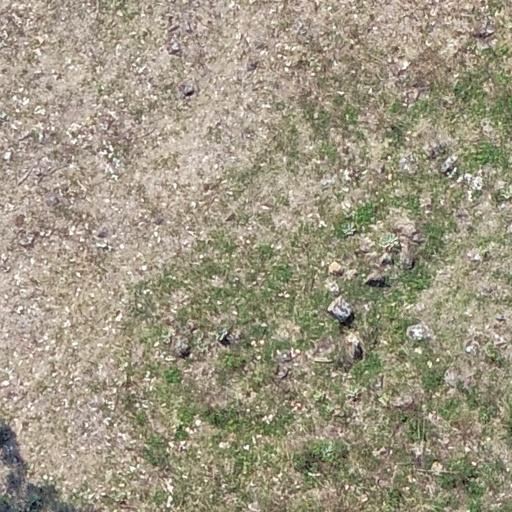stone: (324, 295, 354, 323), (405, 322, 435, 342), (386, 58, 413, 80), (472, 17, 496, 41), (345, 332, 364, 362), (362, 270, 389, 289), (400, 86, 422, 108), (170, 336, 192, 358), (388, 392, 416, 409), (474, 32, 496, 53), (439, 154, 459, 176), (395, 249, 413, 271), (490, 330, 509, 350), (18, 167, 36, 187), (18, 233, 38, 249), (218, 328, 234, 348), (324, 259, 343, 275), (273, 364, 290, 381), (161, 476, 175, 496), (166, 40, 182, 57), (371, 374, 385, 393), (464, 340, 480, 356), (466, 249, 484, 263), (378, 252, 394, 267), (410, 231, 426, 245), (202, 180, 219, 193), (116, 498, 134, 510), (44, 194, 60, 207), (18, 130, 35, 142), (94, 239, 111, 251), (456, 211, 470, 225), (430, 460, 444, 474), (183, 18, 195, 34), (183, 82, 195, 98), (246, 500, 261, 512), (33, 104, 47, 116), (96, 226, 110, 238), (374, 446, 388, 458), (245, 60, 258, 72), (482, 284, 496, 295), (342, 168, 352, 182), (153, 215, 165, 226), (224, 212, 236, 223), (260, 202, 274, 211), (495, 313, 507, 323), (165, 494, 173, 508), (218, 440, 229, 450), (3, 150, 12, 162), (114, 310, 123, 322), (194, 418, 202, 427), (242, 444, 250, 450)
